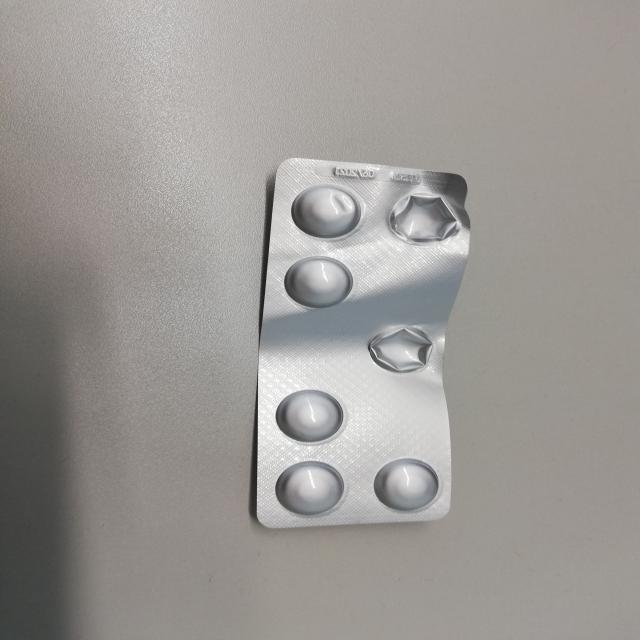Empty: (385, 190, 464, 244), (367, 321, 438, 373)
Pill: (271, 387, 348, 445), (289, 183, 364, 241), (272, 459, 346, 517), (282, 255, 355, 310), (372, 457, 441, 514)
